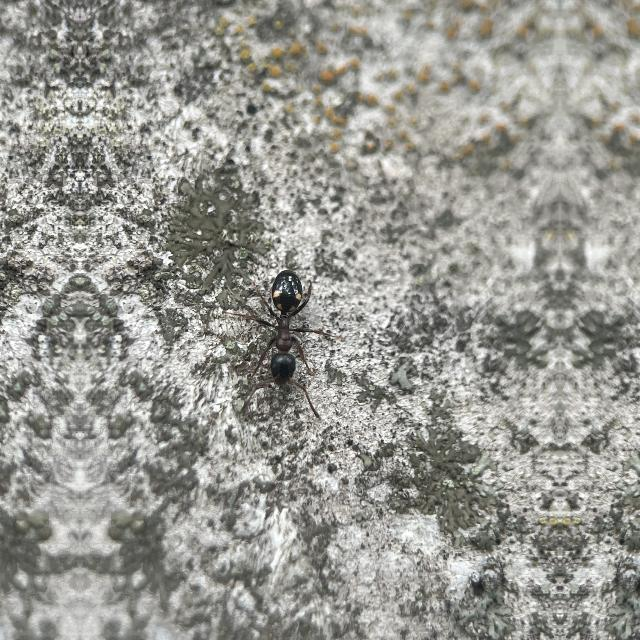Dolichoderus: (238, 242, 336, 422)
